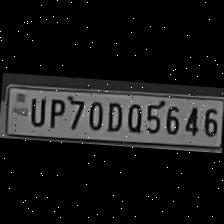0: (83, 96, 105, 130)
4: (180, 102, 200, 135)
5: (142, 99, 162, 134)
6: (199, 103, 221, 135), (162, 100, 180, 134)
7: (64, 94, 84, 130)
D: (103, 96, 125, 132)
P: (44, 93, 66, 127)
Q: (122, 98, 144, 132)
U: (25, 93, 47, 126)
